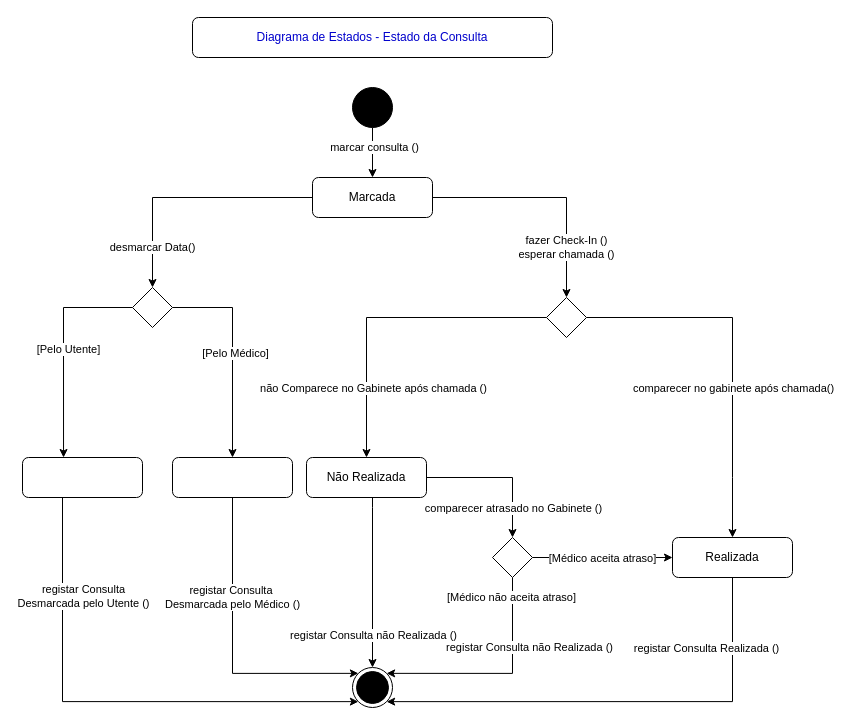
Some shapes in this 851 by 728 pixel diagram are drawn without their labels. The centre of each missing label's shape, as x and y in pixels:
Desmarcada pelo Médico: (232,477)
Desmarcada pelo Utente: (82,477)
